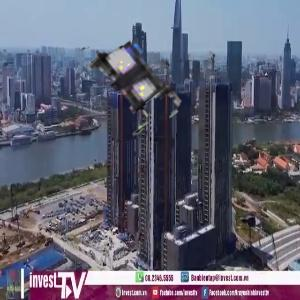drone: (67, 19, 189, 141)
